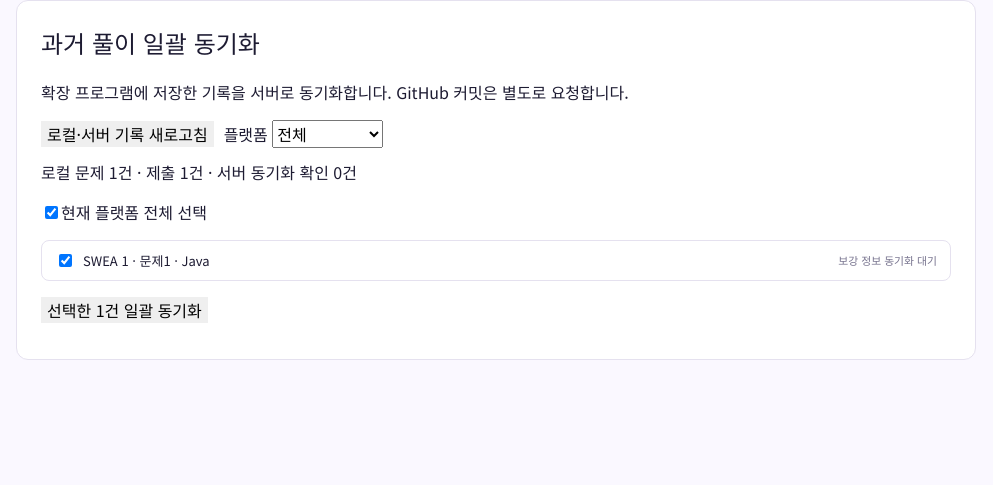
Test: retains enrichment selection when the uploaded revision is stale at ACK time
Click the button "선택한 1건 일괄 동기화": (124, 310) 41,297 -> 208,323
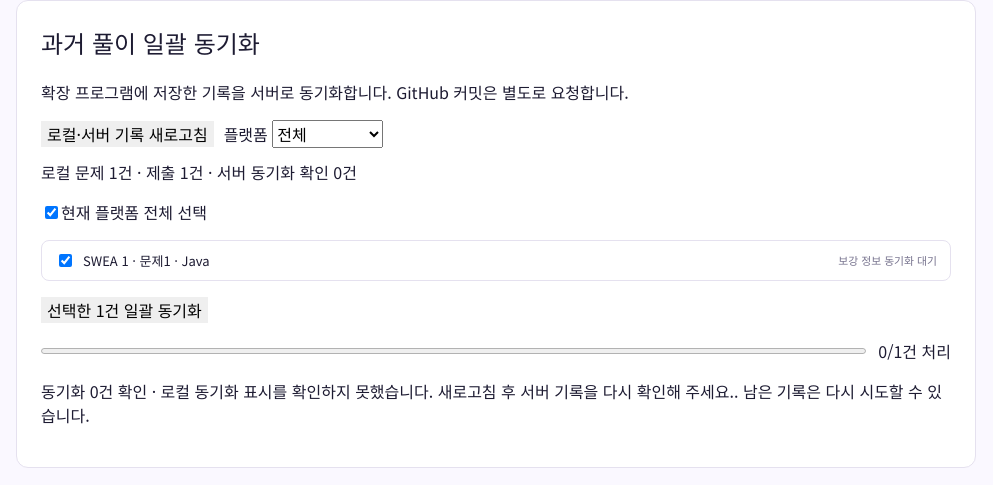
Expected: the text "로컬 동기화 표시를 확인하지 못했습니다" is shown, 41,379 -> 942,427
